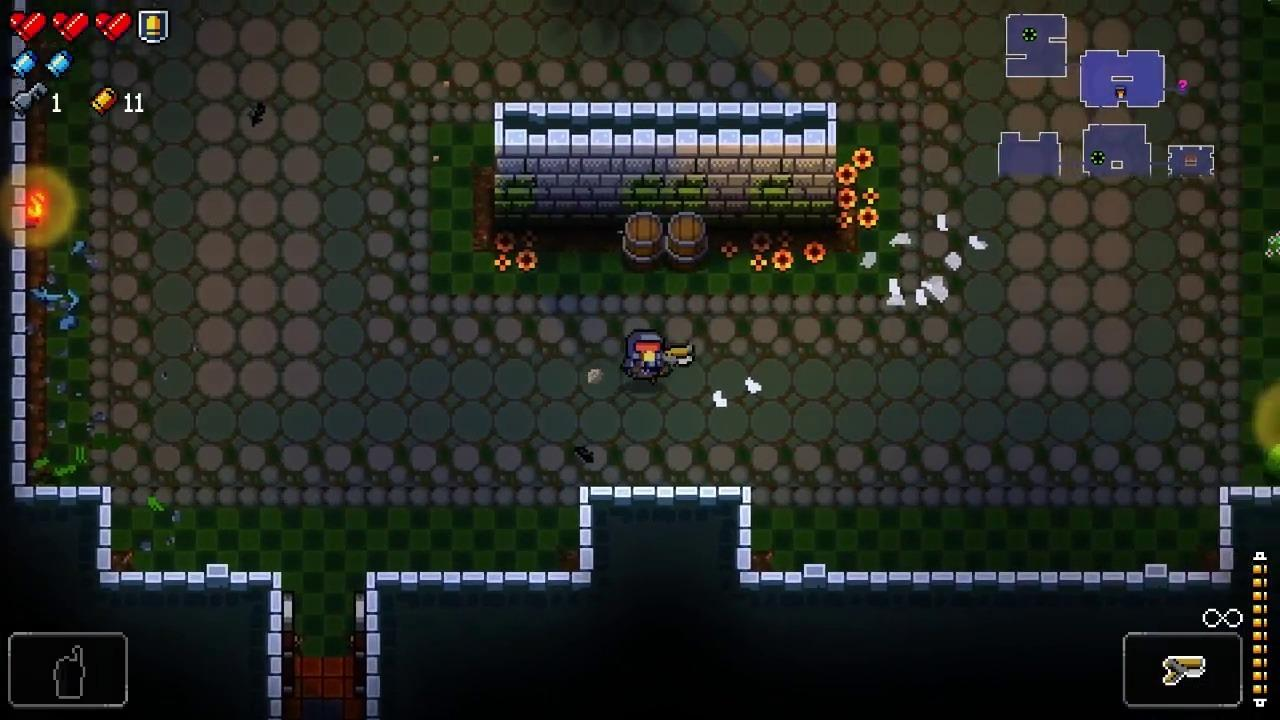player: (625, 329, 667, 385)
unlocked_door: (282, 591, 294, 700), (356, 592, 366, 697)
wall: (495, 103, 837, 238)
